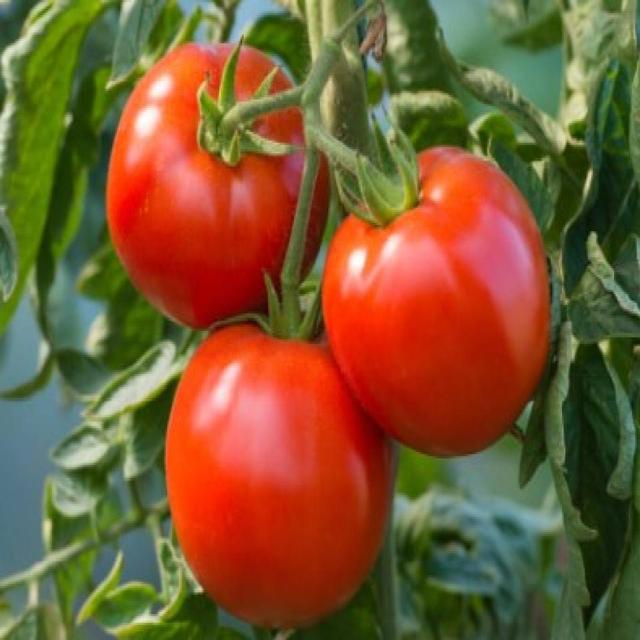Healthy Fruit: (146, 113, 299, 318)
